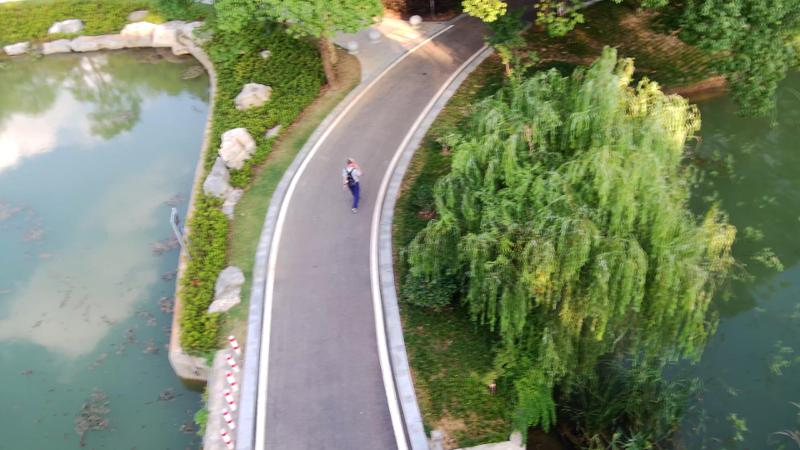passerby: (342, 155, 363, 214)
